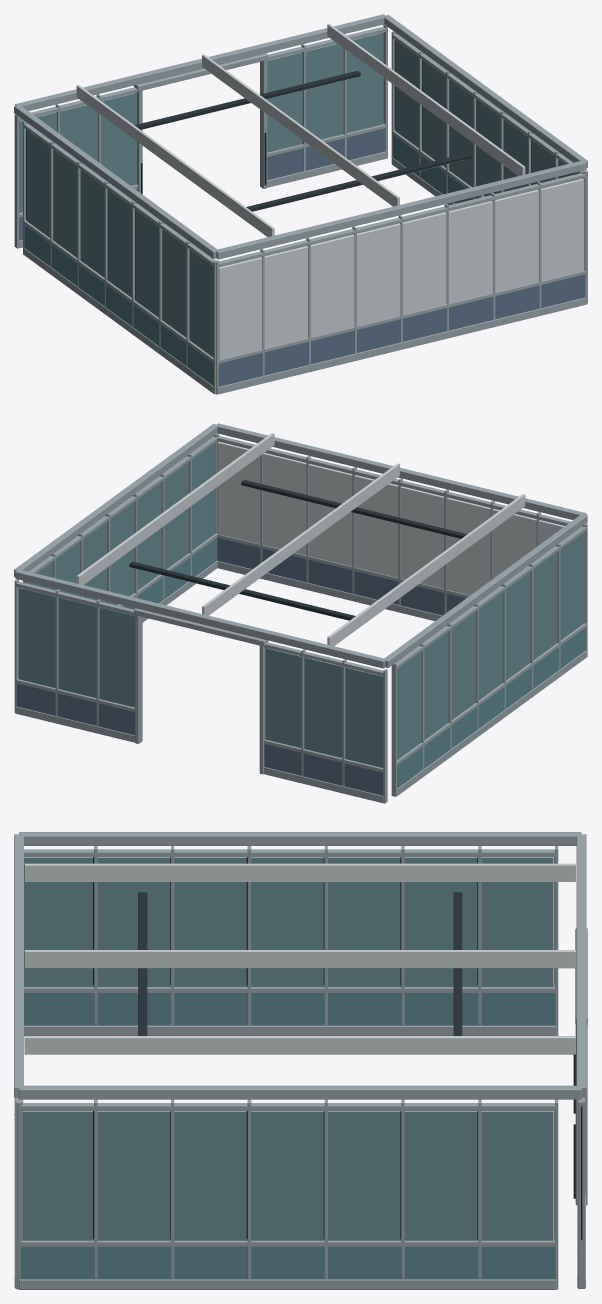
Rendered from SF_N01_Interior.fbx.
The picture shows the model from 3 angles, top to bottom: view 1: azimuth 30°, elevation 25°; view 2: azimuth 150°, elevation 25°; view 3: azimuth 270°, elevation 25°; orthographic projection. The views are drawn at different scales.
Parts seen in each view (by area): view 1: SF_N01_Interior; view 2: SF_N01_Interior; view 3: SF_N01_Interior.
Part boxes in pixels (bbox=[...]): SF_N01_Interior: bbox=[14, 14, 587, 394]; SF_N01_Interior: bbox=[14, 423, 587, 803]; SF_N01_Interior: bbox=[14, 832, 587, 1289].
Size of the model in its own units: 976 by 372 by 918.
